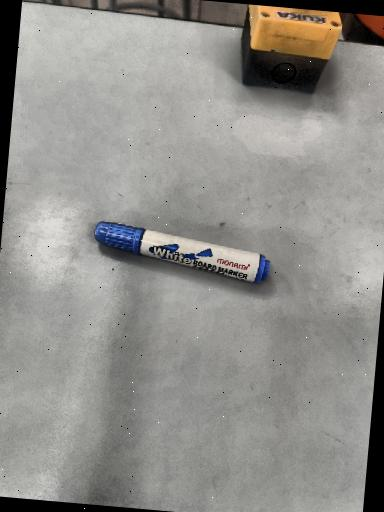marcador azul: (94, 221, 270, 283)
